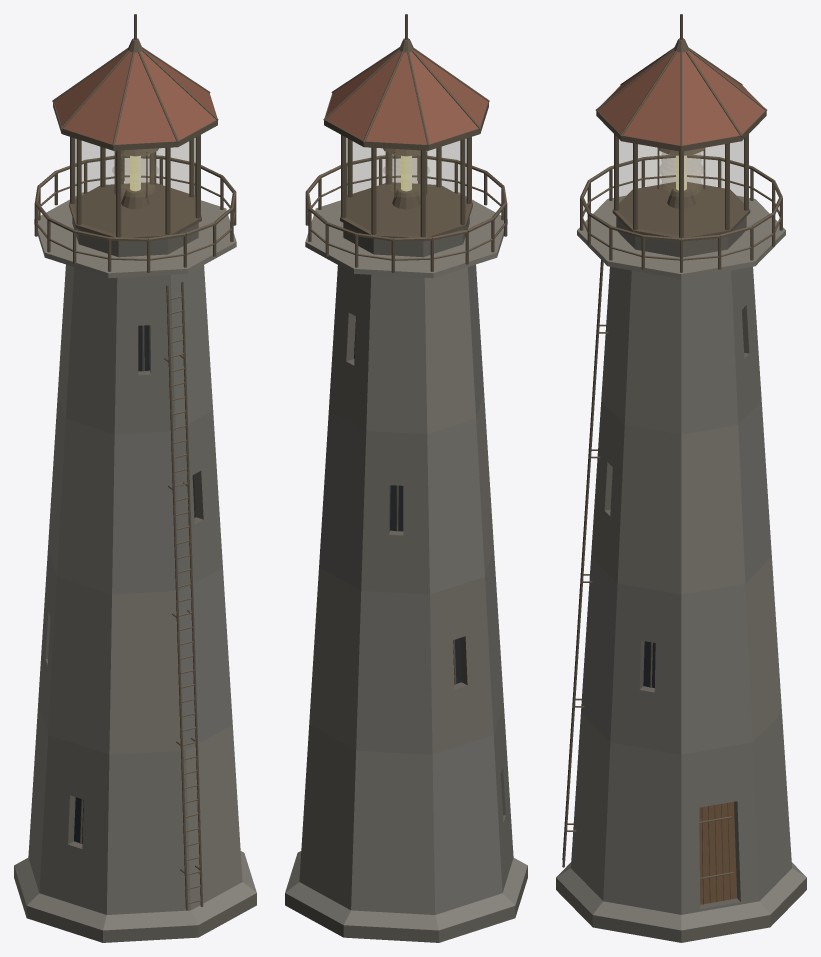
File: lighthouse.glb
The picture shows the model from 3 angles, left to right: view 1: azimuth 30°, elevation 25°; view 2: azimuth 150°, elevation 25°; view 3: azimuth 270°, elevation 25°; orthographic projection.
Parts seen in each view (by area): view 1: Shaft course 0 facet 5, Shaft course 1 facet 5, Shaft course 2 facet 5, Stone opening course 0 facet 4, Eight pitched roof planes, Shaft course 1 facet 4, Shaft course 2 facet 4, Stone opening course 3 facet 5, Shaft course 0 facet 6, Shaft course 3 facet 4, Shaft course 1 facet 6, Stone opening course 2 facet 6 (+18 smaller); view 2: Shaft course 0 facet 2, Shaft course 1 facet 2, Shaft course 0 facet 3, Stone opening course 2 facet 2, Eight pitched roof planes, Shaft course 3 facet 2, Stone opening course 1 facet 3, Shaft course 2 facet 3, Shaft course 0 facet 1, Shaft course 1 facet 1, Shaft course 3 facet 3, Shaft course 2 facet 1 (+17 smaller); view 3: Shaft course 0 facet 7, Shaft course 1 facet 0, Stone opening course 1 facet 7, Shaft course 2 facet 0, Shaft course 2 facet 7, Eight pitched roof planes, Shaft course 3 facet 0, Shaft course 3 facet 7, Stone opening course 0 facet 0, Gallery stone floor, Shaft course 0 facet 1, Shaft course 0 facet 6 (+19 smaller).
Boxes of the visible parts, x1,y1,x2,y2 form: Shaft course 0 facet 5: [106, 750, 190, 914]; Shaft course 1 facet 5: [109, 591, 185, 754]; Shaft course 2 facet 5: [112, 431, 180, 594]; Stone opening course 0 facet 4: [39, 735, 109, 914]; Eight pitched roof planes: [54, 50, 216, 144]; Shaft course 1 facet 4: [48, 577, 111, 754]; Shaft course 2 facet 4: [57, 418, 114, 594]; Stone opening course 3 facet 5: [114, 274, 175, 434]; Shaft course 0 facet 6: [186, 725, 242, 909]; Shaft course 3 facet 4: [66, 267, 117, 434]; Shaft course 1 facet 6: [180, 568, 232, 750]; Stone opening course 2 facet 6: [175, 410, 222, 590]; Shaft course 0 facet 2: [351, 750, 435, 914]; Shaft course 1 facet 2: [356, 591, 432, 754]; Shaft course 0 facet 3: [432, 735, 502, 914]; Stone opening course 2 facet 2: [361, 431, 429, 594]; Eight pitched roof planes: [325, 50, 487, 144]; Shaft course 3 facet 2: [366, 274, 427, 434]; Stone opening course 1 facet 3: [430, 577, 493, 754]; Shaft course 2 facet 3: [427, 418, 484, 594]; Shaft course 0 facet 1: [299, 725, 355, 909]; Shaft course 1 facet 1: [309, 568, 361, 750]; Shaft course 3 facet 3: [424, 267, 475, 434]; Shaft course 2 facet 1: [319, 410, 366, 590]; Shaft course 0 facet 7: [603, 742, 681, 914]; Shaft course 1 facet 0: [681, 583, 752, 754]; Stone opening course 1 facet 7: [610, 583, 681, 754]; Shaft course 2 facet 0: [681, 425, 745, 594]; Shaft course 2 facet 7: [617, 425, 681, 594]; Eight pitched roof planes: [597, 50, 765, 145]; Shaft course 3 facet 0: [681, 270, 738, 434]; Shaft course 3 facet 7: [624, 270, 681, 434]; Stone opening course 0 facet 0: [681, 742, 759, 914]; Gallery stone floor: [577, 195, 785, 279]; Shaft course 0 facet 1: [752, 713, 791, 900]; Shaft course 0 facet 6: [571, 713, 610, 900].
Bounding box in the file's own units: 7.3 × 28.1 × 7.3.
